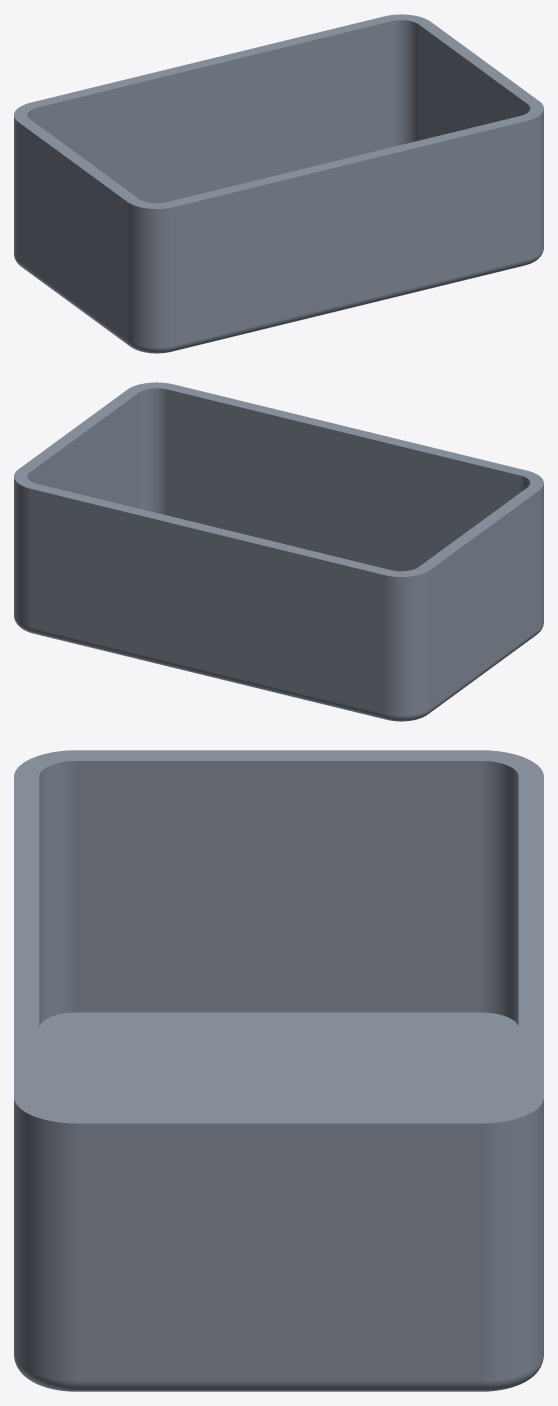
File: step-1.glb
The picture shows the model from 3 angles, top to bottom: view 1: azimuth 30°, elevation 25°; view 2: azimuth 150°, elevation 25°; view 3: azimuth 270°, elevation 25°; orthographic projection. The views are drawn at different scales.
Parts seen in each view (by area): view 1: face_b67d3677e7d694a2f2db, face_45bc5f5550616b1afef1, face_1b6fcadd2781bbc9f307, face_4668c5ffcd0d728ce001, face_6a217752b0c42edc0aa3, face_8ae94c1f7d0a9e66d1f9, face_56ad88746a78aaf93f11, face_c35c8bf9dcc2b3c32720, face_bc76a13d16a970b63849, face_fd40d69dbfc97b0ae30c, face_f6ea822d1165a68862af; view 2: face_2f4825a16657542945f8, face_0af2ead07a9b0099b1ee, face_1b6fcadd2781bbc9f307, face_4668c5ffcd0d728ce001, face_6a217752b0c42edc0aa3, face_fd40d69dbfc97b0ae30c, face_ae601b474693ad150bbf, face_b7d12cd943e777221633, face_0a83f1b7115055c8b5fd, face_8ae94c1f7d0a9e66d1f9, face_f6ea822d1165a68862af; view 3: face_f9e02b68c5aadb2a0dd7, face_51e595b5cd1f429bd8b0, face_0b3e206b2669c049b13b, face_4668c5ffcd0d728ce001, face_c35c8bf9dcc2b3c32720, face_b7d12cd943e777221633, face_fabfacf65a1967ea229c, face_25034a257e1fccea2564, face_8ff70ed42a7977d22eb0.
Boxes of the visible parts, left/top/right/bottom form: face_b67d3677e7d694a2f2db: left=173, top=121, right=526, bottom=345; face_45bc5f5550616b1afef1: left=37, top=21, right=390, bottom=203; face_1b6fcadd2781bbc9f307: left=18, top=122, right=127, bottom=339; face_4668c5ffcd0d728ce001: left=14, top=14, right=543, bottom=208; face_6a217752b0c42edc0aa3: left=419, top=25, right=527, bottom=140; face_8ae94c1f7d0a9e66d1f9: left=127, top=202, right=173, bottom=347; face_56ad88746a78aaf93f11: left=391, top=20, right=418, bottom=147; face_c35c8bf9dcc2b3c32720: left=527, top=110, right=543, bottom=259; face_bc76a13d16a970b63849: left=172, top=259, right=526, bottom=351; face_fd40d69dbfc97b0ae30c: left=14, top=116, right=18, bottom=260; face_f6ea822d1165a68862af: left=18, top=261, right=128, bottom=345; face_2f4825a16657542945f8: left=31, top=489, right=384, bottom=713; face_0af2ead07a9b0099b1ee: left=167, top=389, right=520, bottom=571; face_1b6fcadd2781bbc9f307: left=430, top=490, right=539, bottom=707; face_4668c5ffcd0d728ce001: left=14, top=382, right=543, bottom=576; face_6a217752b0c42edc0aa3: left=30, top=393, right=138, bottom=508; face_fd40d69dbfc97b0ae30c: left=384, top=570, right=430, bottom=715; face_ae601b474693ad150bbf: left=139, top=388, right=166, bottom=515; face_b7d12cd943e777221633: left=14, top=478, right=30, bottom=627; face_0a83f1b7115055c8b5fd: left=31, top=627, right=385, bottom=719; face_8ae94c1f7d0a9e66d1f9: left=539, top=484, right=543, bottom=628; face_f6ea822d1165a68862af: left=429, top=629, right=539, bottom=713; face_f9e02b68c5aadb2a0dd7: left=77, top=1123, right=480, bottom=1380; face_51e595b5cd1f429bd8b0: left=77, top=761, right=480, bottom=1012; face_0b3e206b2669c049b13b: left=39, top=1012, right=518, bottom=1112; face_4668c5ffcd0d728ce001: left=14, top=750, right=543, bottom=1123; face_c35c8bf9dcc2b3c32720: left=14, top=1099, right=76, bottom=1380; face_b7d12cd943e777221633: left=481, top=1099, right=543, bottom=1380; face_fabfacf65a1967ea229c: left=39, top=761, right=76, bottom=1026; face_25034a257e1fccea2564: left=481, top=761, right=518, bottom=1026; face_8ff70ed42a7977d22eb0: left=77, top=1381, right=480, bottom=1391.
Bounding box in the file's own units: 0.07 × 0.024 × 0.042.
